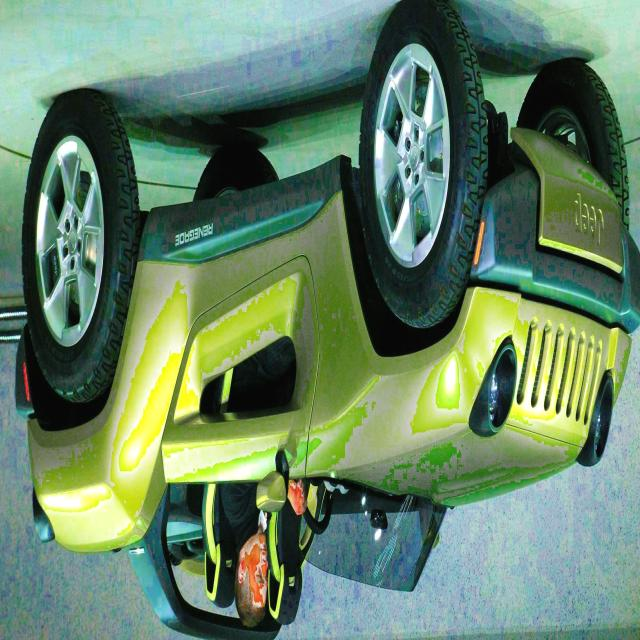green: (18, 0, 637, 640)
